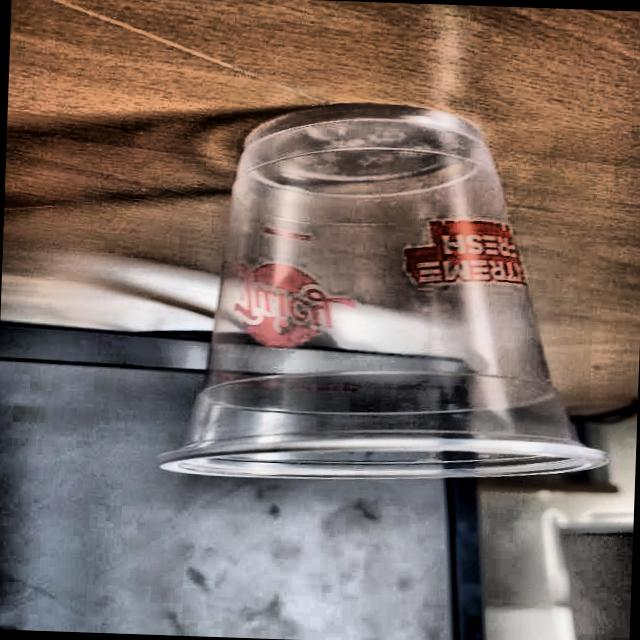plastic cup: (154, 94, 626, 493)
